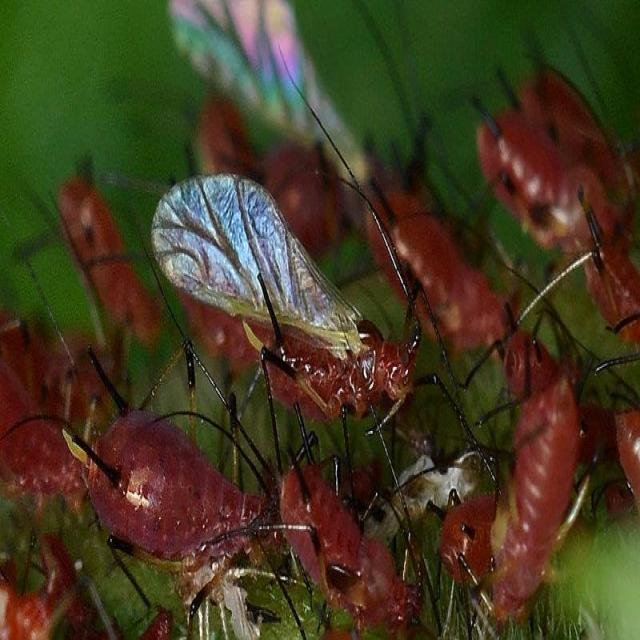Aphids: (49, 353, 298, 593), (458, 352, 592, 614)
